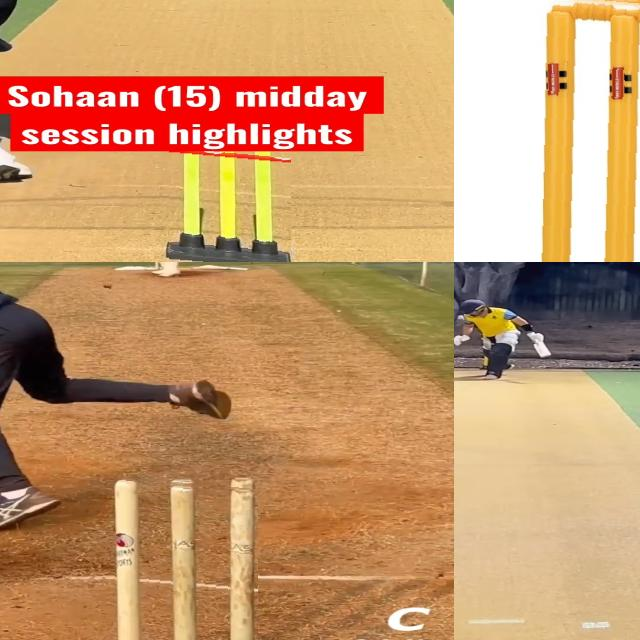Cricket ball: (103, 283, 114, 289), (457, 316, 465, 322)
Stumps: (509, 0, 640, 262), (109, 476, 258, 640), (163, 147, 291, 262)
